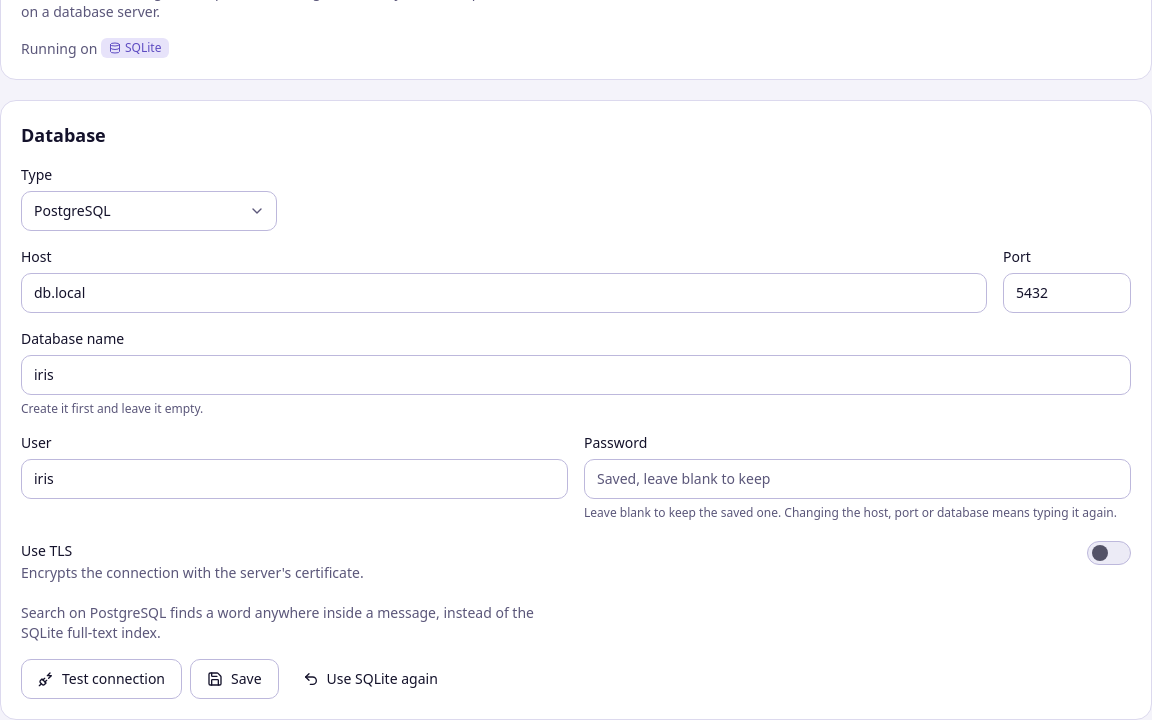
Scenario: a refused connection is announced as an alert
The image size is (1152, 720).
(page scrolled)
Click the button "Test connection". click: coordinates (102, 679)
box: [21,659,182,699]
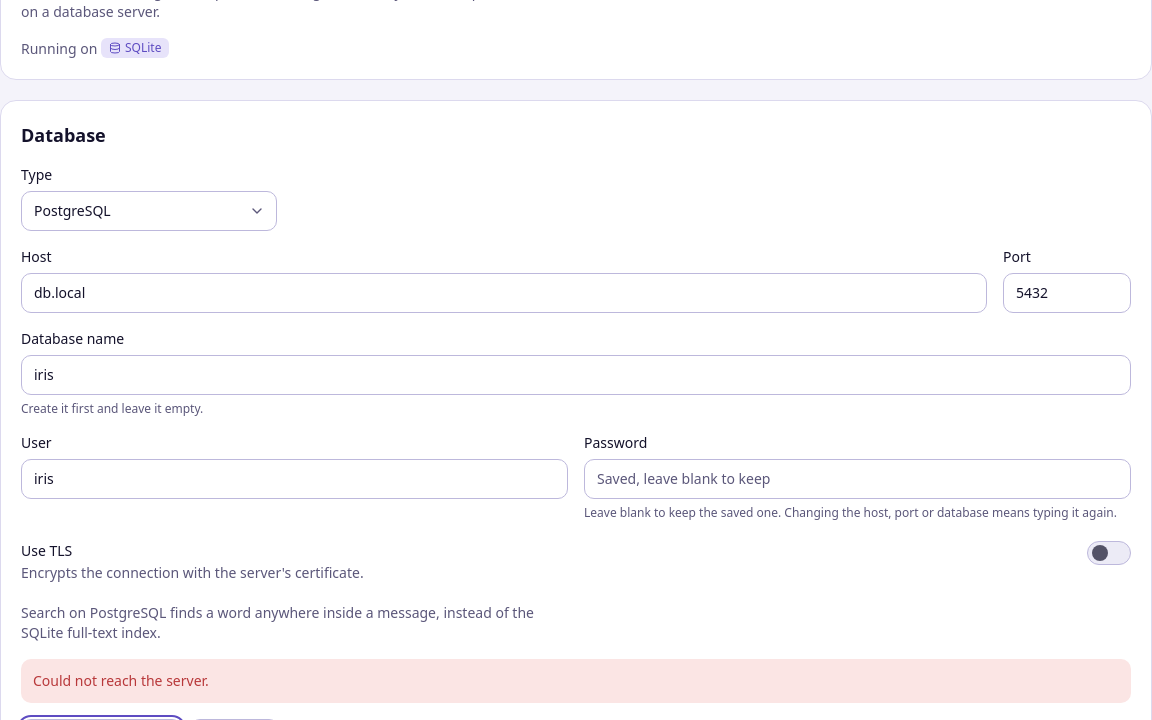
expect the message "Could not reach the server." is shown: met, box [21,659,1131,703]
